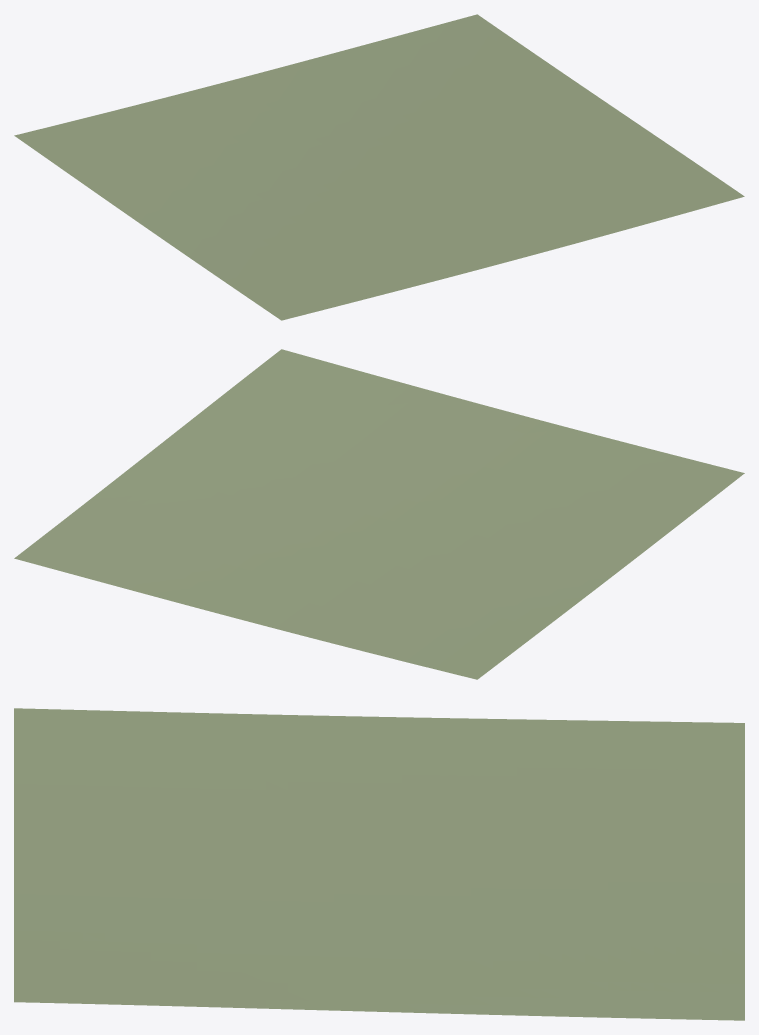
Rendered from expanse-27-1.glb.
3 renders of one model, top to bottom at view 1: azimuth 30°, elevation 25°; view 2: azimuth 150°, elevation 25°; view 3: azimuth 270°, elevation 25°, orthographic. The views are drawn at different scales.
Parts seen in each view (by area): view 1: expanse-27-1; view 2: expanse-27-1; view 3: expanse-27-1.
Boxes of the visible parts, x1,y1,x2,y2 form: expanse-27-1: (14, 14, 744, 320); expanse-27-1: (14, 349, 744, 679); expanse-27-1: (14, 708, 744, 1020).
Bounding box in the file's own units: 256 × 11.48 × 256.
